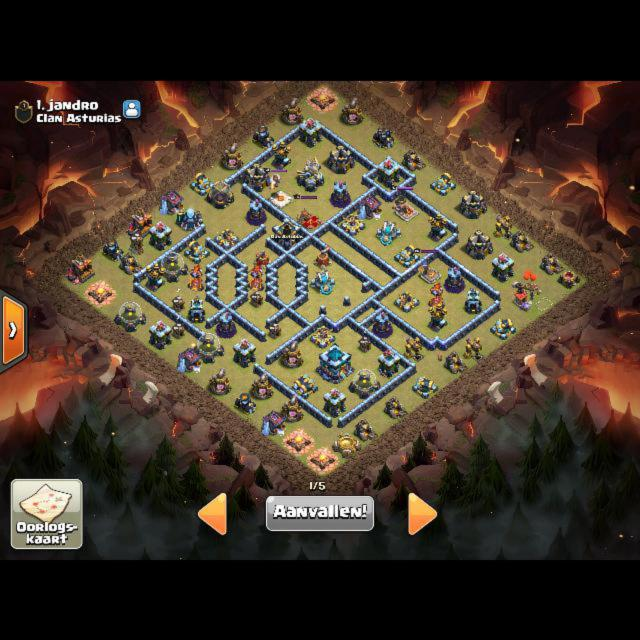AD: (427, 303, 447, 332), (271, 140, 291, 169), (427, 212, 447, 241), (145, 262, 165, 291)
AirSweeper: (314, 246, 332, 269), (253, 249, 271, 269)
BombTower: (188, 295, 204, 322), (465, 287, 481, 313)
Canon: (291, 373, 317, 397), (430, 171, 456, 195), (189, 172, 215, 195), (183, 240, 209, 263), (394, 244, 420, 267), (490, 317, 516, 339), (412, 375, 438, 397)
ClanCastle: (272, 215, 301, 249)
Eagle: (296, 156, 324, 191)
Inferno: (188, 264, 205, 290), (248, 264, 264, 291), (428, 283, 444, 308)
KingPad: (396, 202, 419, 220)
Mortar: (252, 125, 274, 148), (372, 126, 395, 148), (102, 238, 124, 261), (234, 392, 256, 414)
QueenPad: (299, 212, 323, 230)
RcPad: (421, 267, 441, 281)
Scattershot: (377, 219, 401, 245), (310, 269, 334, 294)
TH13: (319, 342, 352, 383)
WardenPad: (271, 190, 292, 205)
WizzTower: (373, 311, 392, 338), (331, 180, 350, 207), (445, 266, 464, 293), (217, 311, 236, 337), (247, 198, 266, 224)
Xbow: (309, 325, 335, 348), (339, 213, 365, 235), (213, 228, 239, 249), (393, 291, 419, 312)
